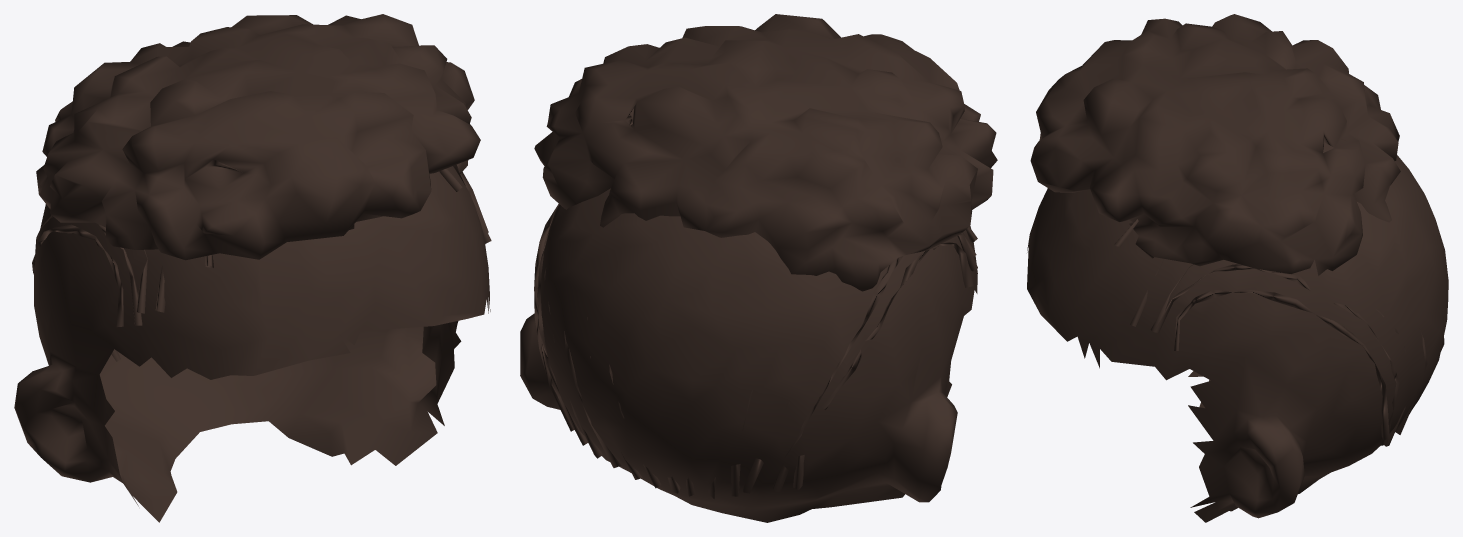
The model's file is curls.glb.
3 renders of one model, left to right at view 1: azimuth 30°, elevation 25°; view 2: azimuth 150°, elevation 25°; view 3: azimuth 270°, elevation 25°, orthographic. The views are drawn at different scales.
Parts seen in each view (by area): view 1: HairScalp, Hair, HairPulledRootStrands; view 2: HairScalp, Hair, HairPulledRootStrands; view 3: HairScalp, Hair, HairPulledRootStrands.
Part boxes in pixels (<box>): HairScalp: <box>14,163,490,522</box>; Hair: <box>36,14,480,260</box>; HairPulledRootStrands: <box>32,164,491,361</box>; HairScalp: <box>520,124,977,522</box>; Hair: <box>534,14,997,291</box>; HairPulledRootStrands: <box>534,119,977,498</box>; HairScalp: <box>1027,142,1448,522</box>; Hair: <box>1030,14,1400,275</box>; HairPulledRootStrands: <box>1114,219,1444,446</box>.
Bounding box in the file's own units: 0.4667 × 0.4395 × 0.4149.
